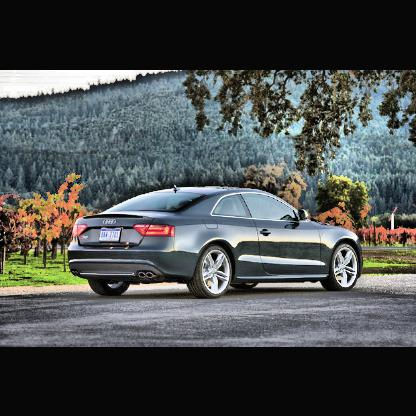Audi S5 Coupe 2012: (57, 169, 378, 313)
